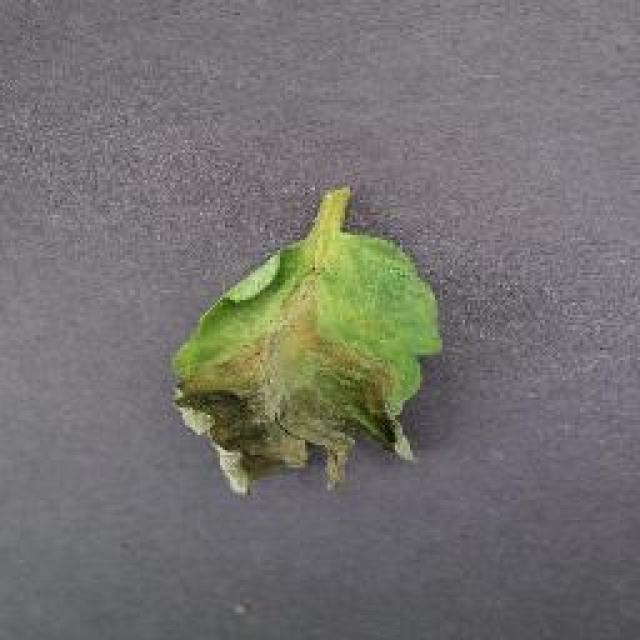Tomato___Late_blight: (170, 188, 442, 500)
